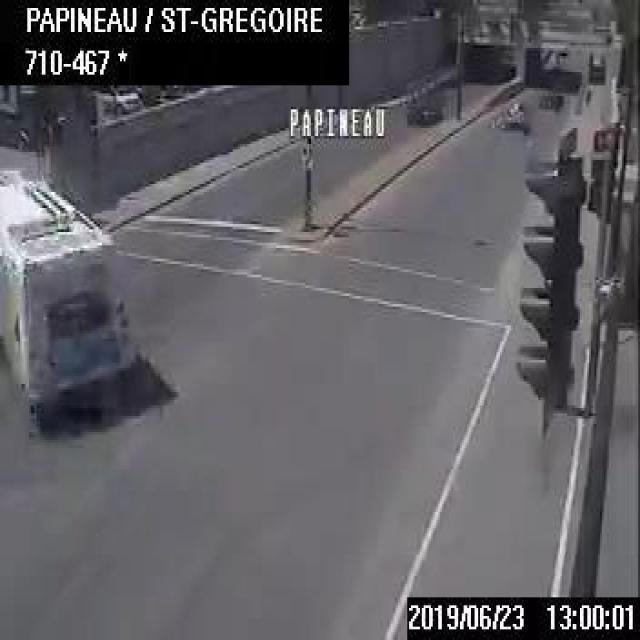bus: (0, 162, 135, 418)
vehicle: (86, 80, 141, 117), (404, 85, 444, 123), (491, 91, 527, 128)
